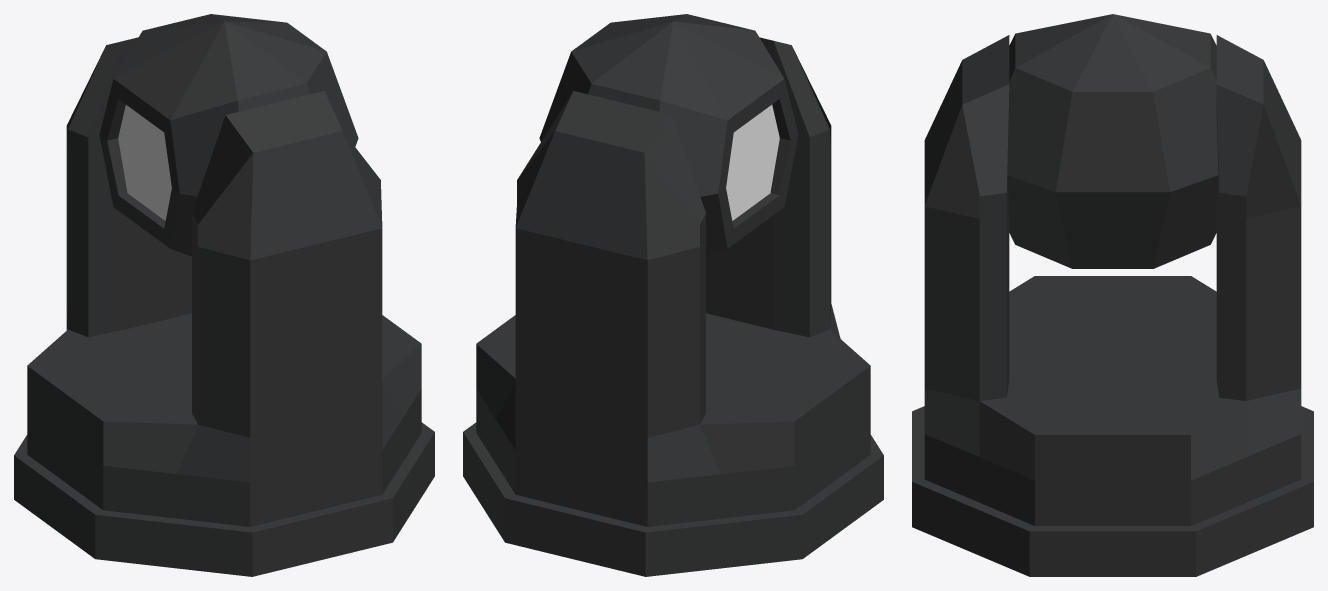
File: SmallSpot.glb
3 views of the same model, side by side, from view 1: azimuth 30°, elevation 25°; view 2: azimuth 150°, elevation 25°; view 3: azimuth 270°, elevation 25° (orthographic). The views are drawn at different scales.
Visible parts, largest first — view 1: Pan, Sphere, Base, Light; view 2: Pan, Sphere, Base, Light; view 3: Pan, Sphere, Base.
Part boxes in pixels (x1,y1,x2,y2): Pan: (27, 37, 421, 526); Sphere: (99, 14, 358, 256); Base: (14, 422, 434, 576); Light: (118, 105, 171, 220); Pan: (476, 37, 870, 526); Sphere: (539, 14, 798, 256); Base: (463, 422, 883, 576); Light: (726, 104, 779, 220); Pan: (924, 35, 1301, 525); Sphere: (1007, 14, 1218, 268); Base: (912, 406, 1313, 576).
Bounding box in the file's own units: 0.5 × 0.6562 × 0.5.
2 materials, 2 textured.
